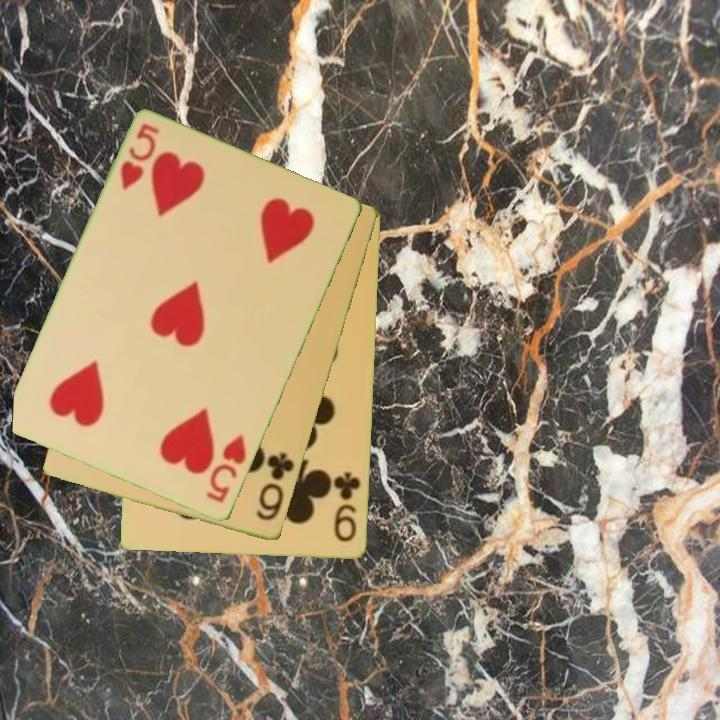5h: (203, 431, 250, 507), (117, 120, 162, 194)
6c: (253, 450, 298, 524)
9c: (331, 469, 364, 545)
